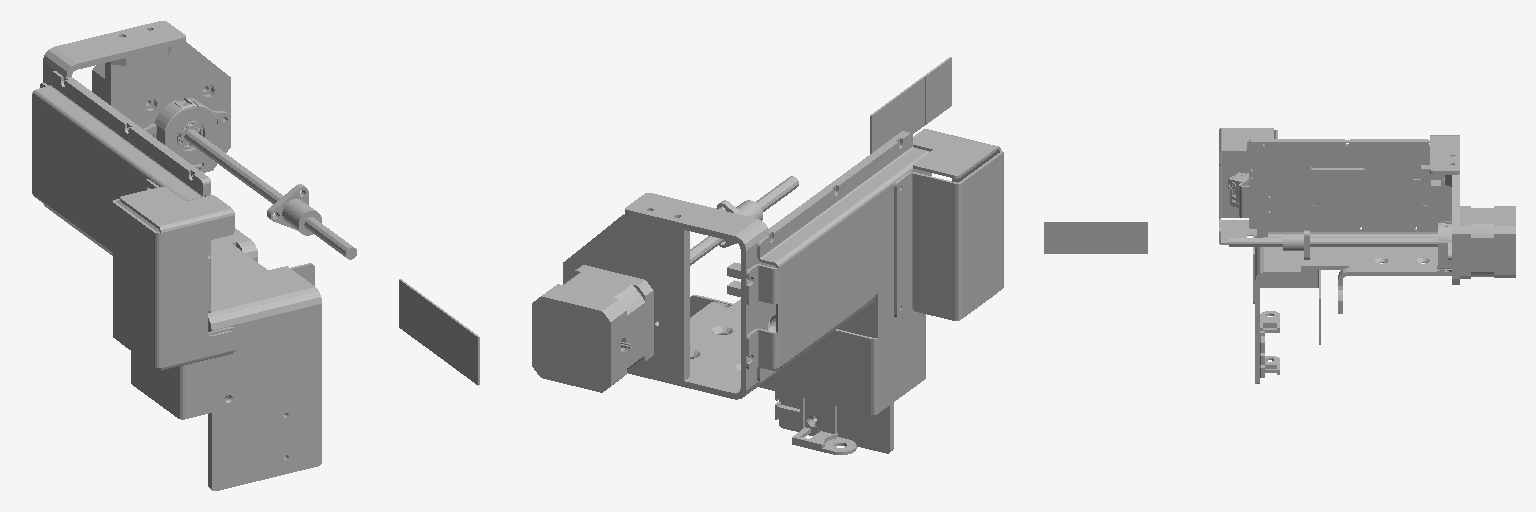
URDF robot description (slide_gantry):
<?xml version="1.0" encoding="utf-8"?>
<!-- This URDF was automatically created by SolidWorks to URDF Exporter! Originally created by [author] ([email redacted]) 
     Commit Version: 1.6.0-1-g15f4949  Build Version: 1.6.7594.29634
     For more information, please see http://wiki.ros.org/sw_urdf_exporter -->
<robot
  name="slide_gantry">
  <link
    name="base_link">
    <inertial>
      <origin
        xyz="-0.58897 0.40838 -0.035364"
        rpy="0 0 0" />
      <mass
        value="6.3024" />
      <inertia
        ixx="0.26226"
        ixy="-0.0024162"
        ixz="2.2498E-06"
        iyy="0.3577"
        iyz="0.00062832"
        izz="0.61868" />
    </inertial>
    <visual>
      <origin
        xyz="0 0 0"
        rpy="0 0 0" />
      <geometry>
        <mesh
          filename="package://slide_gantry/meshes/base_link.STL" />
      </geometry>
      <material
        name="">
        <color
          rgba="0.75294 0.75294 0.75294 1" />
      </material>
    </visual>
    <collision>
      <origin
        xyz="0 0 0"
        rpy="0 0 0" />
      <geometry>
        <mesh
          filename="package://slide_gantry/meshes/base_link.STL" />
      </geometry>
    </collision>
  </link>
  <link
    name="rail_link">
    <inertial>
      <origin
        xyz="-1.2858 0.43231 -0.053667"
        rpy="0 0 0" />
      <mass
        value="2.0201" />
      <inertia
        ixx="0.044128"
        ixy="-0.001392"
        ixz="-0.00013608"
        iyy="0.0027609"
        iyz="0.00027036"
        izz="0.043191" />
    </inertial>
    <visual>
      <origin
        xyz="0 0 0"
        rpy="0 0 0" />
      <geometry>
        <mesh
          filename="package://slide_gantry/meshes/rail_link.STL" />
      </geometry>
      <material
        name="">
        <color
          rgba="0.75294 0.75294 0.75294 1" />
      </material>
    </visual>
    <collision>
      <origin
        xyz="0 0 0"
        rpy="0 0 0" />
      <geometry>
        <mesh
          filename="package://slide_gantry/meshes/rail_link.STL" />
      </geometry>
    </collision>
  </link>
  <joint
    name="sliding_joint0"
    type="prismatic">
    <origin
      xyz="0.41481 -0.10909 -0.00020139"
      rpy="1.5708 0 0" />
    <parent
      link="base_link" />
    <child
      link="rail_link" />
    <axis
      xyz="0 0 0" />
    <limit
      lower="0"
      upper="0"
      effort="0"
      velocity="0" />
  </joint>
  <link
    name="carriage">
    <inertial>
      <origin
        xyz="0.0033797 0.027663 -0.017953"
        rpy="0 0 0" />
      <mass
        value="0.83806" />
      <inertia
        ixx="0.0015035"
        ixy="8.6441E-05"
        ixz="-3.0396E-05"
        iyy="0.0012039"
        iyz="0.00025062"
        izz="0.00070275" />
    </inertial>
    <visual>
      <origin
        xyz="0 0 0"
        rpy="0 0 0" />
      <geometry>
        <mesh
          filename="package://slide_gantry/meshes/carriage.STL" />
      </geometry>
      <material
        name="">
        <color
          rgba="0.75294 0.75294 0.75294 1" />
      </material>
    </visual>
    <collision>
      <origin
        xyz="0 0 0"
        rpy="0 0 0" />
      <geometry>
        <mesh
          filename="package://slide_gantry/meshes/carriage.STL" />
      </geometry>
    </collision>
  </link>
  <joint
    name="sliding_joint1"
    type="prismatic">
    <origin
      xyz="-1.2414 0.56089 -0.010833"
      rpy="0 0 -1.5708" />
    <parent
      link="rail_link" />
    <child
      link="carriage" />
    <axis
      xyz="0 0 0" />
    <limit
      lower="0"
      upper="0"
      effort="0"
      velocity="0" />
  </joint>
</robot>

--- What the picture shows (computed from the rendered views, not written in the file) ---
The picture shows the robot from 3 angles, left to right: view 1: azimuth 30°, elevation 25°; view 2: azimuth 150°, elevation 25°; view 3: azimuth 270°, elevation 25°; orthographic projection.
Model slide_gantry with 3 links and 2 joints (2 prismatic), rooted at base_link, posed all joints at 0.
Visible links, largest first — view 1: base_link; view 2: base_link; view 3: base_link.
Link boxes in pixels (bbox=[...]): base_link: bbox=[32, 21, 479, 490]; base_link: bbox=[532, 57, 1003, 454]; base_link: bbox=[1044, 128, 1515, 383].
Size in the robot's own frame: 0.1376 by 0.3408 by 0.1711 metres.
1 mesh visuals loaded from 3 distinct referenced files (1 binary STL); not drawn: 2 (reference not matched to a file when rendering).